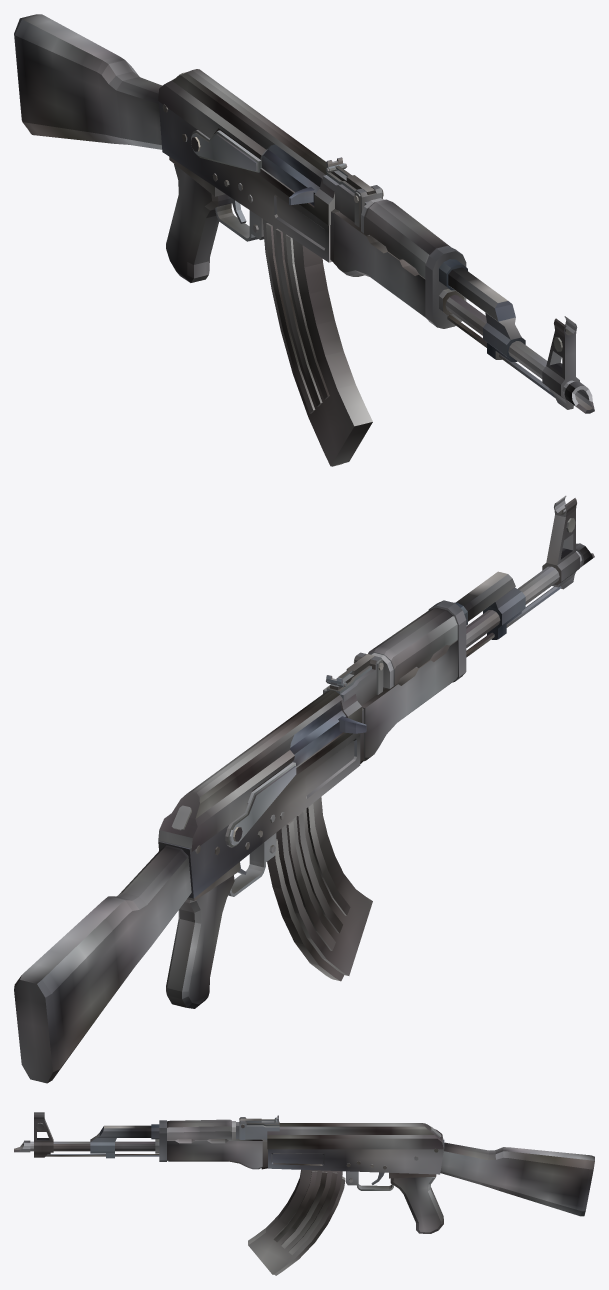
Rendered from assault_rifle_01.fbx.
3 renders of one model, top to bottom at view 1: azimuth 30°, elevation 25°; view 2: azimuth 150°, elevation 25°; view 3: azimuth 270°, elevation 25°, orthographic. The views are drawn at different scales.
Parts seen in each view (by area): view 1: assault_rifle_01, assault_rifle_01_mag, assault_rifle_01_iron_sights, assault_rifle_01_slider; view 2: assault_rifle_01, assault_rifle_01_mag, assault_rifle_01_iron_sights, assault_rifle_01_slider; view 3: assault_rifle_01, assault_rifle_01_mag, assault_rifle_01_iron_sights.
Boxes of the visible parts, <box> form: assault_rifle_01: <box>14,14,594,413</box>; assault_rifle_01_mag: <box>263,219,372,466</box>; assault_rifle_01_iron_sights: <box>325,157,579,409</box>; assault_rifle_01_slider: <box>262,144,321,205</box>; assault_rifle_01: <box>14,543,594,1083</box>; assault_rifle_01_mag: <box>267,797,372,981</box>; assault_rifle_01_iron_sights: <box>326,495,579,690</box>; assault_rifle_01_slider: <box>290,701,366,766</box>; assault_rifle_01: <box>14,1117,594,1233</box>; assault_rifle_01_mag: <box>248,1170,345,1275</box>; assault_rifle_01_iron_sights: <box>34,1112,278,1157</box>.
Size of the model in its own units: 2.14 by 36.29 by 11.14.
1 material, 1 textured.
